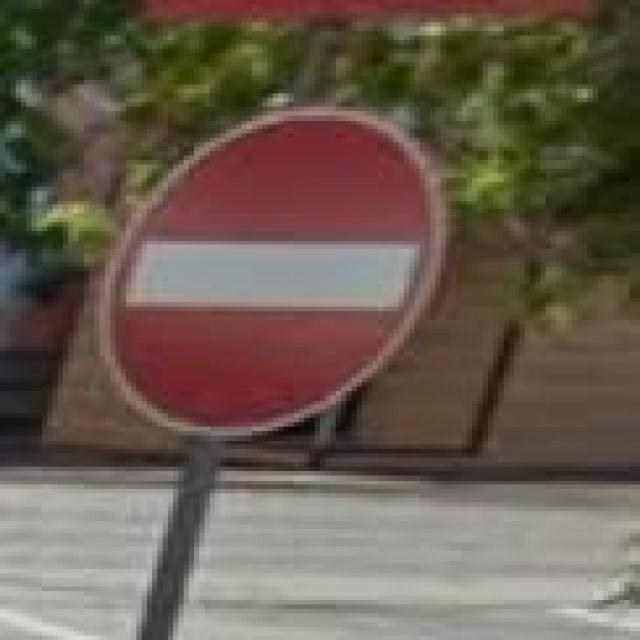Zakaz wjazdu: (94, 107, 446, 436)
